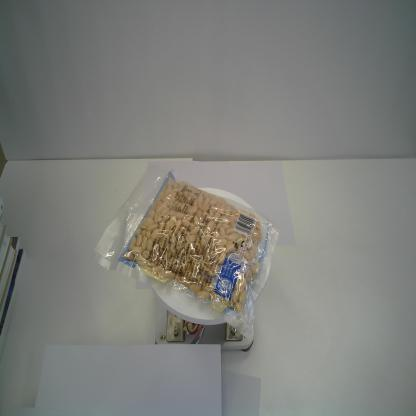Dried Fruit: (92, 157, 281, 340)
